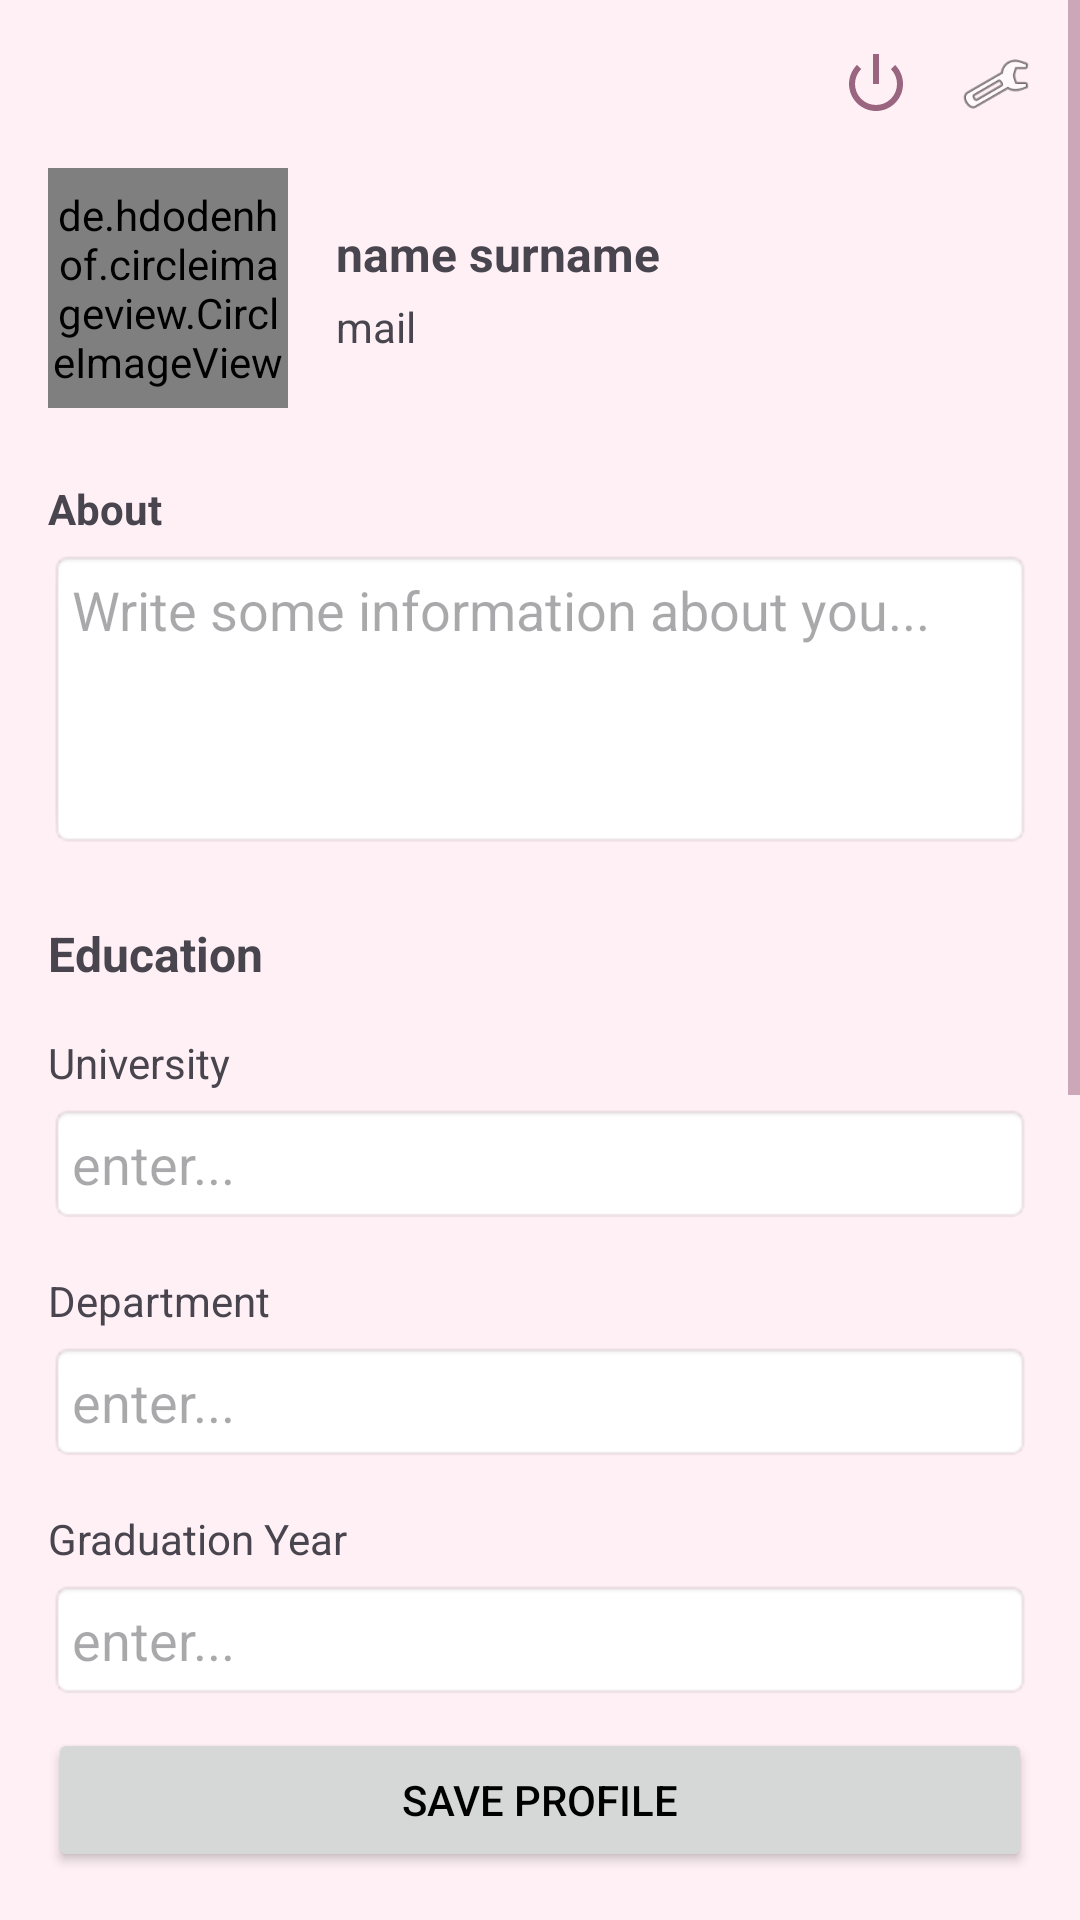

Named icons in this screenshot (1080w x 1920h) and their bounding boxes, (x1,y1,x2,y2):
manage: (963,59,1028,109)
